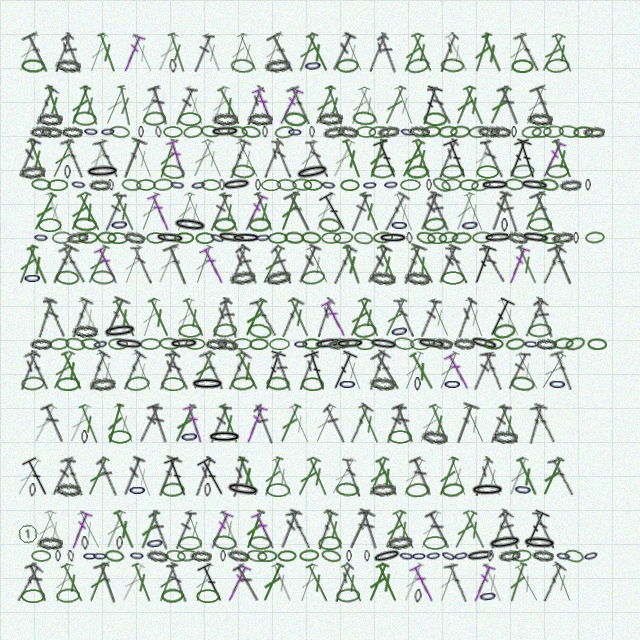chain: (294, 162, 331, 182), (225, 480, 261, 499), (487, 533, 523, 552), (172, 216, 208, 234), (102, 322, 138, 340), (468, 334, 500, 353), (371, 547, 403, 565), (522, 535, 557, 551), (264, 268, 292, 287), (85, 164, 120, 179), (368, 336, 399, 352), (405, 56, 431, 75), (190, 377, 225, 391), (207, 430, 242, 444), (470, 483, 505, 497), (160, 163, 186, 181), (247, 322, 273, 340), (221, 177, 252, 192), (216, 230, 247, 245), (520, 230, 551, 245), (313, 336, 344, 351), (416, 336, 447, 351), (465, 548, 496, 563), (430, 175, 453, 195), (264, 57, 291, 74), (229, 269, 256, 286), (386, 534, 413, 551), (492, 322, 517, 340), (300, 269, 326, 286), (519, 178, 550, 192), (19, 164, 46, 180), (369, 270, 396, 286), (404, 270, 431, 286), (89, 376, 116, 392), (421, 429, 448, 445), (510, 163, 535, 180), (125, 375, 150, 392), (510, 375, 535, 392), (212, 534, 237, 551), (155, 231, 185, 245), (114, 337, 144, 351), (423, 216, 447, 233), (353, 322, 377, 339), (369, 376, 396, 391), (230, 58, 255, 74), (405, 482, 430, 498), (55, 58, 81, 73), (317, 111, 343, 126), (210, 125, 240, 138), (483, 231, 513, 244), (169, 337, 199, 350), (335, 337, 365, 350), (55, 482, 81, 497), (370, 482, 396, 497), (283, 111, 307, 127), (322, 124, 346, 140), (406, 164, 430, 180), (318, 217, 342, 233), (215, 336, 239, 352), (441, 482, 465, 498), (248, 535, 272, 551), (440, 58, 465, 73), (545, 58, 570, 73), (352, 111, 377, 126), (55, 270, 80, 285), (335, 482, 360, 497), (564, 335, 586, 352), (37, 112, 63, 126), (212, 112, 238, 126), (247, 112, 273, 126), (527, 112, 553, 126), (72, 324, 98, 338), (492, 430, 518, 444), (37, 536, 63, 550), (73, 111, 97, 126), (231, 164, 255, 179), (371, 164, 395, 179), (480, 179, 510, 191), (73, 217, 97, 232), (528, 217, 552, 232), (231, 232, 261, 244), (378, 232, 408, 244), (91, 270, 115, 285), (213, 323, 237, 338), (528, 323, 552, 338), (21, 376, 45, 391), (231, 376, 255, 391), (266, 376, 290, 391), (161, 482, 185, 497), (56, 588, 80, 603), (336, 588, 360, 603), (240, 124, 262, 140), (470, 177, 492, 193), (415, 230, 437, 246), (64, 336, 86, 352), (320, 548, 342, 564), (563, 548, 585, 564), (336, 58, 359, 73), (143, 111, 166, 126), (336, 124, 359, 139), (377, 124, 400, 139), (441, 164, 464, 179), (546, 164, 569, 179), (213, 217, 236, 232), (248, 217, 271, 232), (66, 230, 89, 245), (123, 230, 146, 245), (506, 230, 529, 245), (551, 230, 574, 245), (327, 336, 350, 351), (227, 548, 250, 563), (498, 548, 521, 563), (161, 588, 184, 603), (21, 59, 45, 73), (178, 112, 202, 126), (423, 112, 447, 126), (38, 218, 62, 232), (441, 271, 465, 285), (178, 324, 202, 338), (389, 323, 410, 339), (56, 377, 80, 391), (161, 377, 185, 391), (108, 430, 132, 444), (388, 430, 412, 444), (266, 483, 290, 497), (178, 536, 202, 550), (318, 536, 342, 550), (423, 536, 447, 550), (21, 589, 45, 603), (196, 589, 220, 603), (182, 124, 204, 139), (558, 124, 580, 139), (393, 336, 415, 351), (511, 59, 534, 73), (476, 165, 499, 179), (559, 178, 582, 192), (301, 377, 324, 391), (146, 549, 169, 563), (460, 217, 480, 233), (145, 535, 165, 551), (478, 588, 498, 604), (200, 124, 221, 139), (538, 177, 559, 192), (438, 230, 459, 245), (368, 125, 390, 139), (246, 549, 268, 563), (208, 230, 227, 246), (439, 548, 458, 564), (303, 58, 323, 73), (513, 482, 533, 497), (477, 125, 500, 138), (109, 125, 130, 139), (227, 125, 248, 139), (274, 125, 295, 139), (468, 125, 489, 139), (521, 125, 542, 139), (531, 125, 552, 139), (121, 178, 142, 192), (276, 178, 297, 192), (353, 231, 374, 245), (451, 231, 472, 245), (49, 337, 70, 351), (80, 337, 101, 351), (505, 337, 526, 351), (104, 549, 125, 563), (165, 549, 186, 563), (30, 125, 52, 138), (408, 125, 430, 138), (489, 125, 511, 138), (431, 337, 453, 350), (453, 337, 475, 350), (532, 549, 554, 562), (110, 217, 129, 232), (180, 429, 199, 444), (421, 125, 442, 138), (543, 125, 564, 138), (441, 178, 462, 191), (504, 178, 525, 191), (472, 231, 493, 244), (159, 337, 180, 350), (553, 337, 574, 350), (452, 548, 470, 563), (582, 548, 600, 563), (390, 218, 409, 232), (23, 271, 42, 285), (338, 377, 357, 391), (443, 377, 462, 391), (548, 377, 567, 391), (128, 483, 147, 497), (40, 126, 62, 138), (61, 126, 83, 138), (583, 126, 605, 138), (89, 179, 111, 191), (30, 338, 52, 350), (205, 338, 227, 350), (535, 338, 557, 350), (190, 550, 212, 562), (438, 125, 458, 138), (450, 125, 470, 138), (31, 178, 51, 191), (153, 178, 173, 191), (292, 178, 312, 191), (52, 231, 72, 244), (78, 231, 98, 244), (97, 231, 117, 244), (284, 231, 304, 244), (301, 231, 321, 244), (333, 231, 353, 244), (373, 231, 393, 244), (585, 231, 605, 244), (177, 549, 197, 562), (299, 549, 319, 562), (512, 549, 532, 562), (47, 179, 68, 191), (400, 179, 421, 191), (107, 232, 128, 244), (140, 338, 161, 350), (269, 338, 290, 350), (410, 338, 431, 350), (163, 126, 183, 138), (356, 126, 376, 138), (573, 126, 593, 138), (136, 179, 156, 191), (201, 179, 221, 191), (261, 179, 281, 191), (303, 179, 323, 191), (340, 179, 360, 191), (459, 179, 479, 191), (146, 232, 166, 244), (174, 232, 194, 244), (195, 232, 215, 244), (268, 232, 288, 244), (321, 232, 341, 244), (427, 232, 447, 244), (541, 232, 561, 244), (108, 338, 128, 350), (185, 338, 205, 350), (232, 338, 252, 350), (249, 338, 269, 350), (302, 338, 322, 350), (355, 338, 375, 350), (484, 338, 504, 350), (587, 338, 607, 350), (31, 550, 51, 562), (257, 550, 277, 562), (277, 550, 297, 562), (399, 125, 416, 139), (169, 178, 186, 192), (190, 178, 207, 192), (320, 178, 337, 192), (92, 337, 109, 351), (398, 549, 415, 563), (555, 549, 572, 563), (70, 178, 87, 191), (425, 549, 442, 562), (83, 125, 99, 138), (100, 125, 116, 138), (383, 178, 399, 191), (33, 231, 49, 244), (255, 231, 271, 244), (129, 549, 145, 562), (287, 126, 303, 138), (362, 179, 378, 191), (293, 338, 309, 350), (523, 338, 539, 350), (82, 550, 98, 562), (92, 550, 108, 562), (411, 550, 427, 562), (169, 59, 177, 73), (81, 536, 89, 550), (414, 589, 422, 603), (64, 165, 71, 179), (501, 218, 508, 232), (414, 377, 421, 391), (81, 430, 88, 444), (29, 483, 36, 497), (204, 483, 211, 497), (116, 536, 123, 550), (107, 179, 115, 191), (67, 550, 75, 562), (155, 126, 162, 138), (406, 232, 413, 244), (487, 550, 494, 562), (138, 126, 144, 138), (262, 126, 268, 138), (309, 126, 315, 138), (511, 126, 517, 138), (219, 179, 225, 191), (255, 179, 261, 191), (426, 179, 432, 191), (585, 179, 591, 191), (573, 232, 579, 244), (55, 550, 61, 562), (220, 550, 226, 562), (346, 550, 352, 562), (364, 550, 370, 562)
double: (370, 349, 406, 393), (21, 31, 55, 75), (266, 31, 300, 75), (283, 190, 317, 234), (318, 190, 352, 234), (46, 243, 80, 287), (196, 455, 230, 499), (21, 455, 54, 499), (343, 508, 376, 552), (196, 561, 229, 605), (11, 562, 45, 604), (378, 190, 411, 233), (529, 190, 561, 234), (162, 243, 194, 287), (547, 243, 579, 287), (99, 296, 131, 340), (484, 296, 516, 340), (327, 349, 359, 393), (519, 508, 551, 552), (536, 350, 569, 392), (57, 243, 89, 286), (249, 296, 281, 339), (529, 84, 560, 128), (117, 137, 148, 181), (372, 137, 403, 181), (442, 137, 473, 181), (397, 243, 428, 287), (152, 455, 183, 499), (12, 456, 44, 498), (232, 562, 264, 604), (512, 31, 543, 74), (92, 137, 123, 180), (327, 243, 358, 286), (537, 243, 568, 286), (519, 296, 550, 339), (117, 349, 148, 392), (222, 349, 253, 392), (344, 402, 375, 445), (529, 402, 560, 445), (547, 455, 578, 498), (537, 561, 568, 604), (503, 137, 533, 181), (468, 243, 498, 287), (450, 402, 480, 446), (163, 455, 193, 499), (93, 561, 123, 605), (327, 456, 359, 497), (442, 32, 473, 74), (537, 32, 568, 74), (214, 85, 245, 127), (397, 138, 428, 180), (29, 191, 60, 233), (74, 191, 105, 233), (407, 350, 438, 392), (512, 350, 543, 392), (29, 403, 60, 445), (74, 509, 105, 551), (424, 509, 455, 551), (117, 562, 148, 604), (512, 562, 543, 604), (303, 31, 333, 74), (30, 84, 60, 127), (75, 296, 105, 339), (240, 296, 270, 339), (275, 296, 305, 339), (380, 296, 410, 339), (48, 349, 78, 392), (188, 349, 218, 392), (285, 508, 315, 551), (460, 508, 490, 551), (485, 508, 515, 551), (513, 137, 542, 181), (303, 349, 332, 393), (233, 138, 263, 180), (328, 138, 358, 180), (198, 244, 228, 286), (303, 244, 333, 286), (363, 244, 393, 286), (408, 244, 438, 286), (110, 297, 140, 339), (320, 297, 350, 339), (233, 350, 263, 392), (443, 350, 473, 392), (293, 456, 323, 498), (398, 456, 428, 498), (450, 509, 480, 551), (58, 562, 88, 604), (303, 562, 333, 604), (408, 562, 438, 604), (153, 31, 182, 74), (328, 31, 357, 74), (408, 31, 437, 74), (100, 84, 129, 127), (285, 84, 314, 127), (310, 84, 339, 127), (355, 84, 384, 127), (380, 84, 409, 127), (460, 84, 489, 127), (485, 84, 514, 127), (188, 137, 217, 180), (198, 137, 227, 180), (223, 137, 252, 180), (110, 190, 139, 233), (520, 190, 549, 233), (83, 243, 112, 286), (153, 243, 182, 286), (513, 243, 542, 286), (65, 296, 94, 339), (145, 296, 174, 339), (180, 296, 209, 339), (285, 296, 314, 339), (345, 296, 374, 339), (355, 296, 384, 339), (425, 296, 454, 339), (495, 296, 524, 339), (23, 349, 52, 392), (58, 349, 87, 392), (83, 349, 112, 392), (93, 349, 122, 392), (198, 349, 227, 392), (363, 349, 392, 392), (40, 402, 69, 445), (65, 402, 94, 445), (170, 402, 199, 445), (275, 402, 304, 445), (310, 402, 339, 445), (83, 455, 112, 498), (408, 455, 437, 498), (513, 455, 542, 498), (538, 455, 567, 498), (110, 508, 139, 551), (380, 508, 409, 551), (258, 561, 287, 604), (268, 561, 297, 604), (373, 561, 402, 604), (443, 561, 472, 604), (416, 84, 444, 128), (259, 349, 287, 393), (275, 85, 304, 127), (48, 138, 77, 180), (538, 138, 567, 180), (240, 191, 269, 233), (93, 244, 122, 286), (258, 244, 287, 286), (415, 403, 444, 445), (373, 456, 402, 498), (250, 509, 279, 551), (390, 509, 419, 551), (223, 562, 252, 604), (338, 562, 367, 604), (14, 31, 42, 74), (234, 31, 262, 74), (339, 31, 367, 74), (66, 84, 94, 127), (136, 84, 164, 127), (451, 84, 479, 127), (496, 84, 524, 127), (14, 137, 42, 180), (59, 137, 87, 180), (129, 137, 157, 180), (549, 137, 577, 180), (66, 190, 94, 233), (181, 190, 209, 233), (311, 190, 339, 233), (356, 190, 384, 233), (294, 243, 322, 286), (374, 243, 402, 286), (434, 243, 462, 286), (399, 349, 427, 392), (434, 349, 462, 392), (479, 349, 507, 392), (391, 402, 419, 445), (426, 402, 454, 445), (59, 455, 87, 498), (234, 455, 262, 498), (269, 455, 297, 498), (304, 455, 332, 498), (364, 455, 392, 498), (504, 455, 532, 498), (41, 508, 69, 551), (101, 508, 129, 551), (216, 508, 244, 551), (311, 508, 339, 551), (24, 561, 52, 604), (84, 561, 112, 604), (364, 561, 392, 604), (399, 561, 427, 604), (479, 561, 507, 604), (129, 32, 157, 74), (399, 32, 427, 74), (549, 32, 577, 74), (521, 85, 549, 127), (146, 191, 174, 233), (24, 244, 52, 286), (286, 403, 314, 445), (461, 403, 489, 445), (31, 509, 59, 551), (206, 509, 234, 551), (416, 509, 444, 551), (94, 31, 121, 74), (199, 31, 226, 74), (259, 31, 286, 74), (294, 31, 321, 74), (181, 84, 208, 127), (391, 84, 418, 127), (24, 137, 51, 180), (339, 137, 366, 180), (409, 137, 436, 180), (469, 137, 496, 180), (136, 190, 163, 233), (251, 190, 278, 233), (276, 190, 303, 233), (416, 190, 443, 233), (451, 190, 478, 233), (14, 243, 41, 286), (119, 243, 146, 286), (31, 296, 58, 339), (339, 349, 366, 392), (549, 349, 576, 392), (111, 402, 138, 445), (146, 402, 173, 445), (216, 402, 243, 445), (119, 455, 146, 498), (259, 455, 286, 498), (434, 455, 461, 498), (181, 508, 208, 551), (241, 508, 268, 551), (276, 508, 303, 551), (321, 508, 348, 551), (129, 561, 156, 604), (154, 561, 181, 604), (434, 561, 461, 604), (549, 561, 576, 604), (479, 244, 507, 285), (321, 403, 349, 444), (119, 32, 146, 74), (479, 32, 506, 74), (251, 85, 278, 127), (346, 85, 373, 127), (216, 191, 243, 233), (391, 191, 418, 233), (461, 191, 488, 233), (504, 244, 531, 286), (76, 403, 103, 445), (356, 403, 383, 445), (496, 403, 523, 445), (136, 509, 163, 551), (469, 562, 496, 604), (77, 84, 103, 127), (147, 84, 173, 127), (207, 84, 233, 127), (322, 84, 348, 127), (85, 137, 111, 180), (42, 190, 68, 233), (487, 190, 513, 233), (190, 243, 216, 286), (137, 296, 163, 339), (462, 296, 488, 339), (522, 402, 548, 445), (445, 455, 471, 498), (357, 508, 383, 551), (50, 561, 76, 604), (190, 561, 216, 604), (426, 191, 453, 232), (234, 244, 261, 285), (269, 244, 296, 285), (154, 350, 181, 391), (136, 403, 163, 444), (49, 456, 76, 497), (85, 32, 111, 74), (172, 85, 198, 127), (295, 138, 321, 180), (172, 191, 198, 233), (172, 297, 198, 339), (452, 297, 478, 339), (130, 350, 156, 392), (470, 350, 496, 392), (242, 403, 268, 445), (130, 456, 156, 498), (480, 456, 506, 498), (67, 509, 93, 551), (295, 562, 321, 604), (165, 31, 190, 74), (470, 31, 495, 74), (505, 31, 530, 74), (42, 84, 67, 127), (165, 137, 190, 180), (365, 137, 390, 180), (340, 243, 365, 286), (182, 402, 207, 445), (505, 561, 530, 604), (427, 85, 453, 126), (305, 138, 331, 179), (225, 244, 251, 285), (207, 297, 233, 338), (15, 350, 41, 391), (505, 350, 531, 391), (95, 456, 121, 497), (190, 456, 216, 497), (497, 509, 523, 550), (60, 32, 85, 74), (155, 138, 180, 180), (480, 138, 505, 180), (102, 191, 127, 233), (207, 191, 232, 233), (417, 297, 442, 339), (532, 297, 557, 339), (165, 350, 190, 392), (207, 403, 232, 445), (252, 403, 277, 445), (487, 403, 512, 445), (147, 509, 172, 551), (172, 509, 197, 551), (226, 31, 250, 74), (103, 402, 127, 445), (365, 32, 390, 73), (260, 138, 285, 179), (435, 138, 460, 179), (130, 244, 155, 285), (445, 244, 470, 285), (295, 350, 320, 391), (532, 509, 557, 550), (191, 32, 215, 74), (376, 32, 400, 74), (348, 191, 372, 233), (498, 191, 522, 233), (43, 297, 67, 339), (271, 350, 295, 392), (383, 403, 407, 445), (51, 32, 75, 73), (436, 32, 460, 73), (393, 297, 417, 338), (331, 562, 355, 603), (166, 562, 189, 604), (114, 84, 136, 127), (243, 85, 266, 126), (271, 138, 294, 179), (313, 297, 336, 338), (471, 456, 494, 497), (219, 297, 241, 339), (227, 456, 249, 498), (342, 456, 363, 498)
noise: (16, 522, 40, 546)
